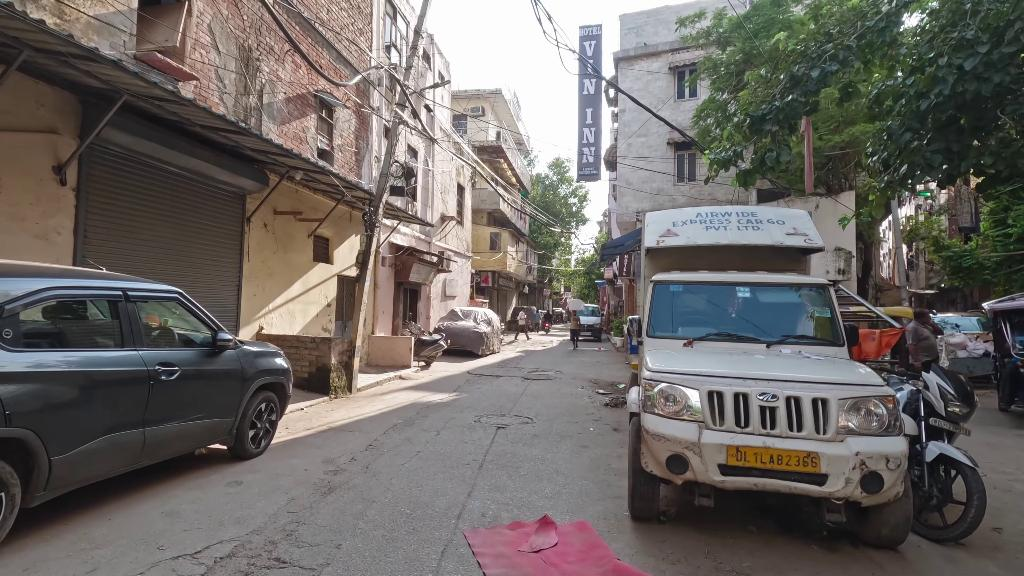garbage: (463, 517, 639, 576)
